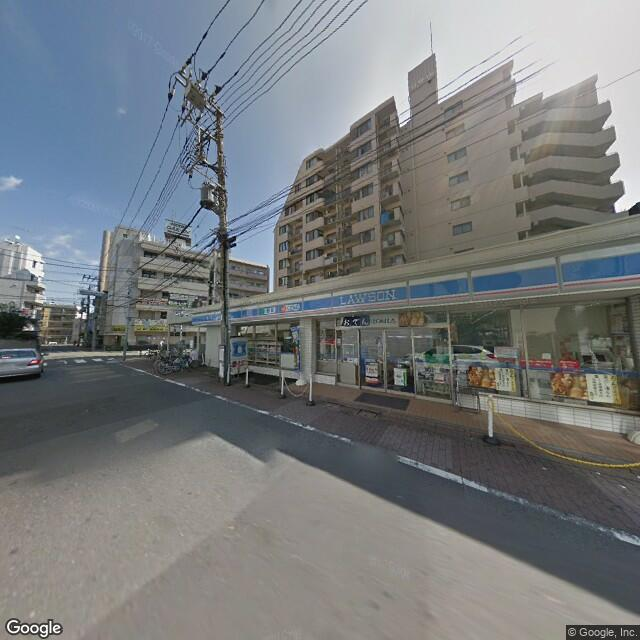lawson: (189, 235, 639, 327), (225, 338, 248, 358)
